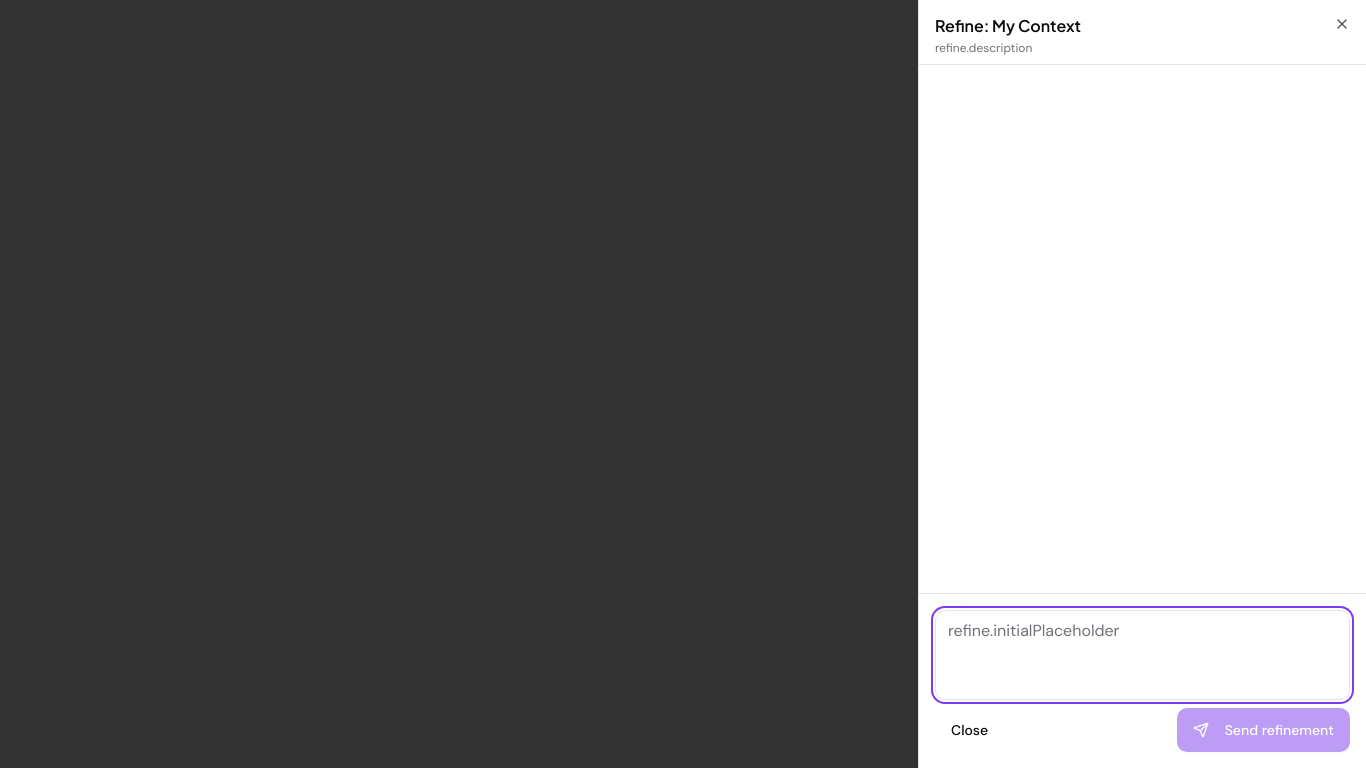
it: ContextualRefinementPanel › on 402: toast, credit block disables send
Type "x" into the text box named "Refinement message" at (1142,655), box x1=935 y1=610 x2=1350 y2=700
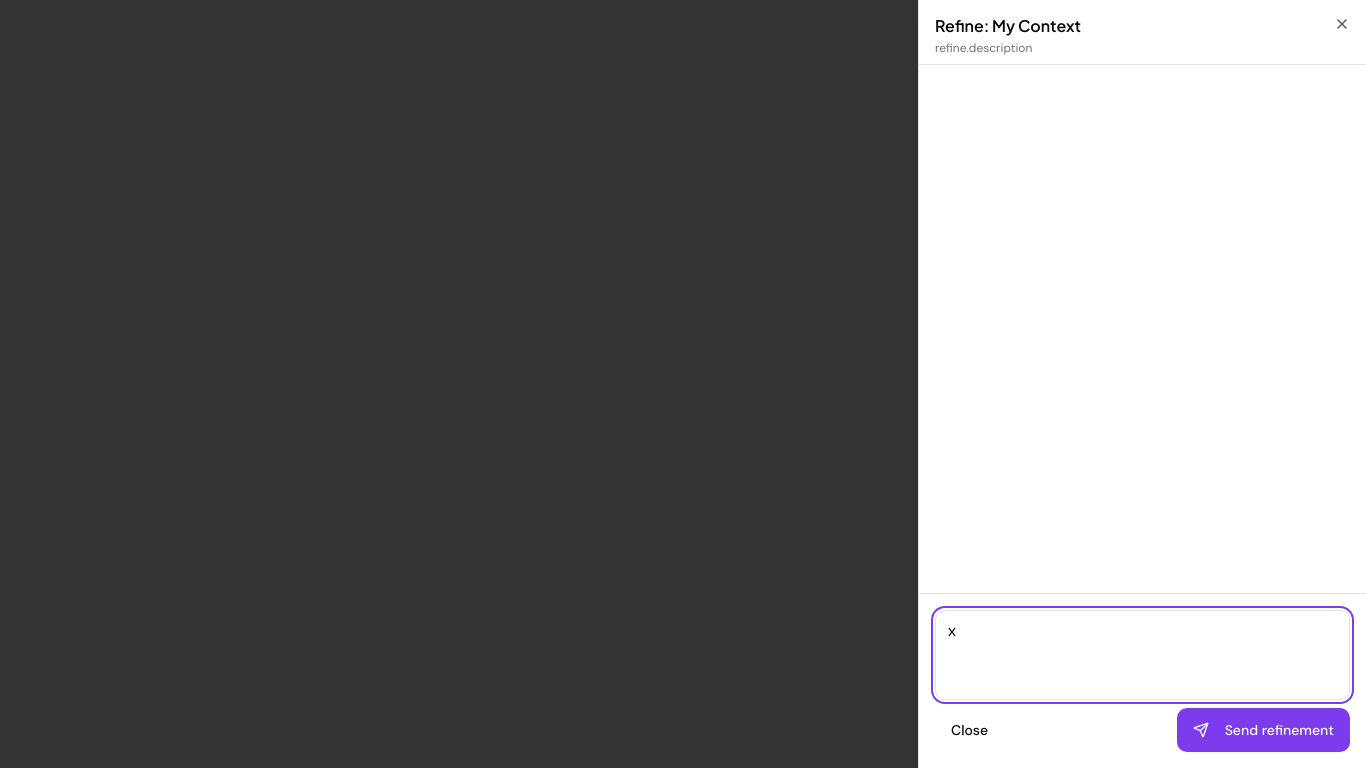
Click the button with aria-label "Send refinement" at (1263,730), box x1=1177 y1=708 x2=1350 y2=752
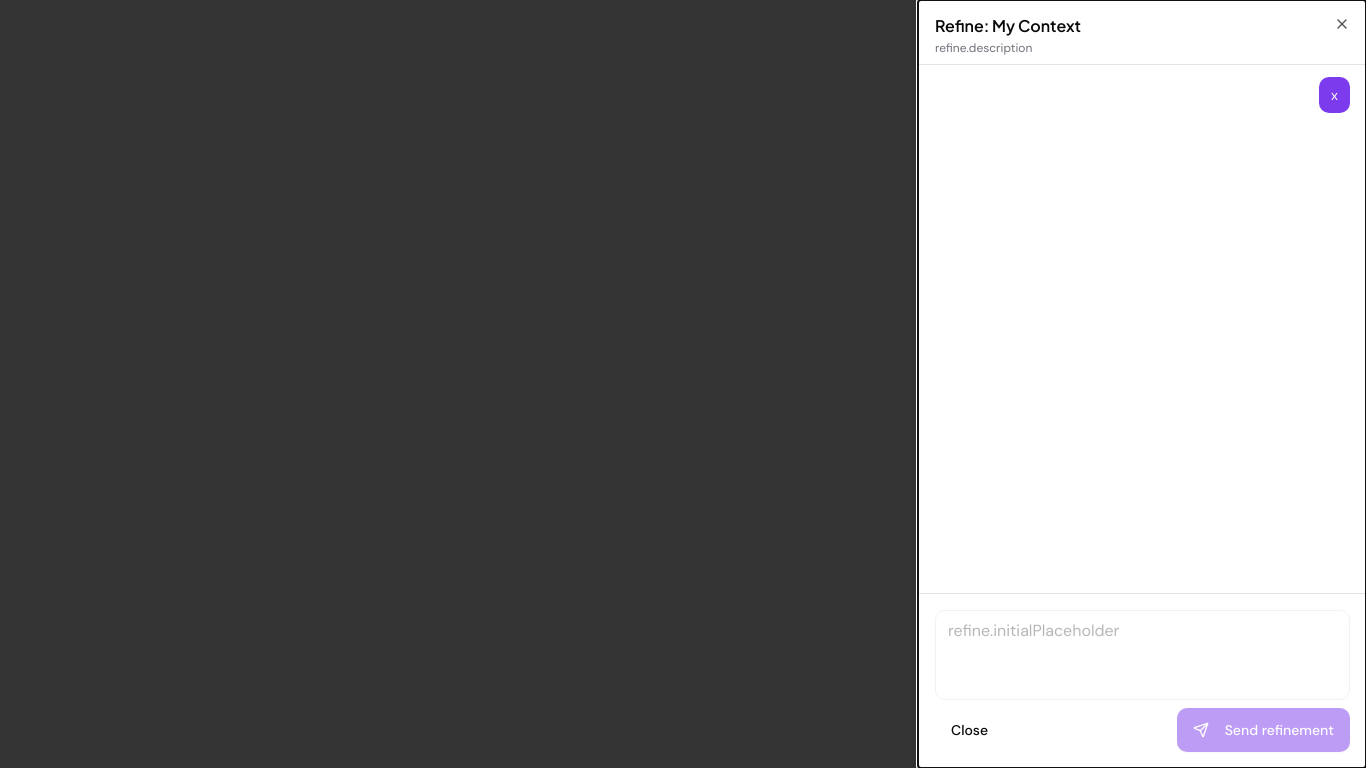
Now the button with aria-label "Send refinement" is disabled, box x1=1177 y1=708 x2=1350 y2=752
